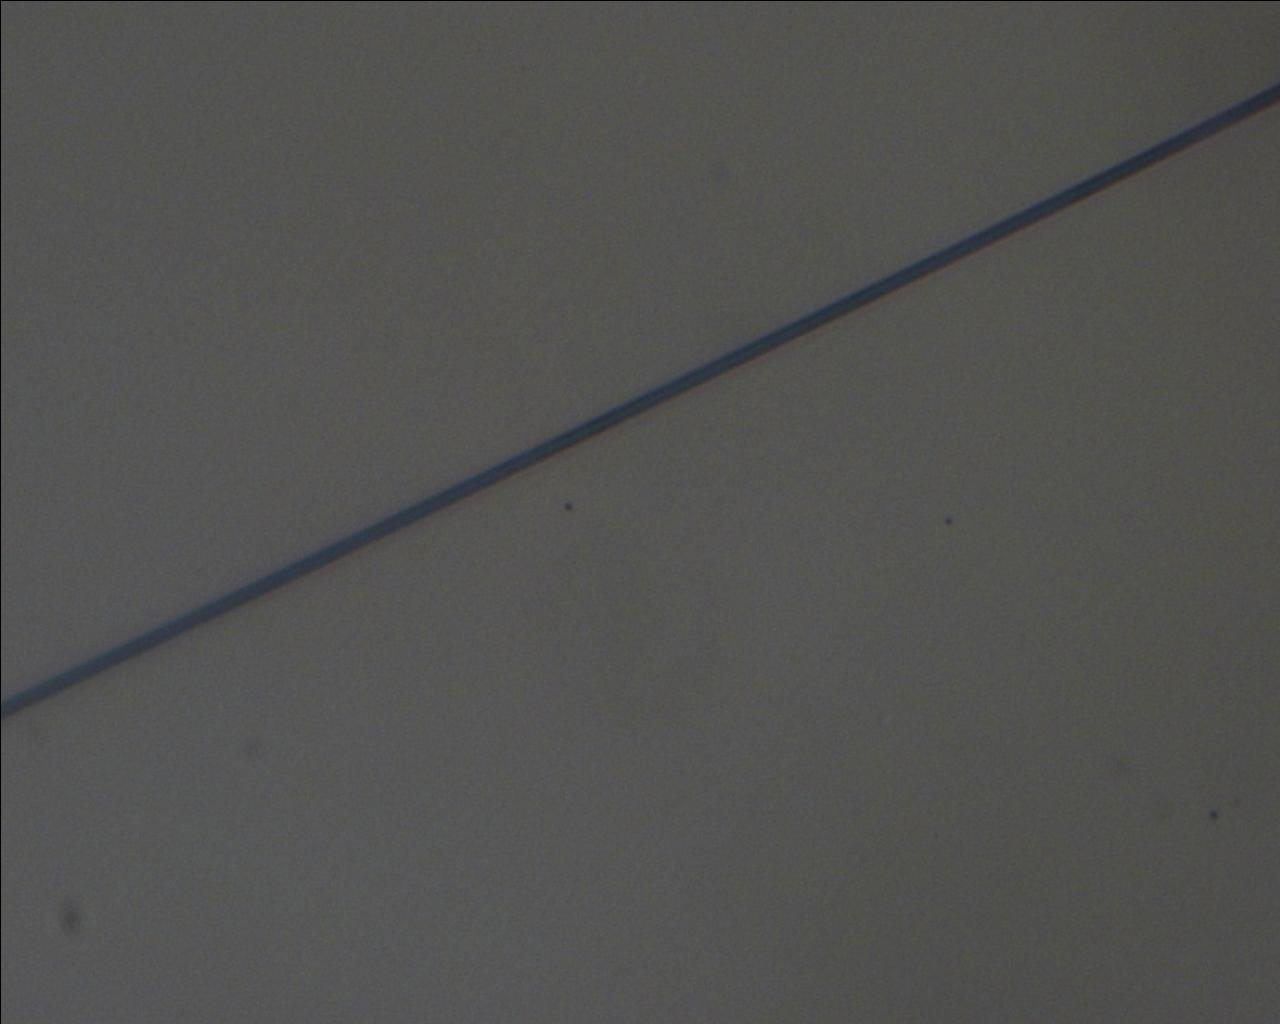fiber: (665, 343, 1280, 603), (270, 675, 665, 1024), (256, 0, 386, 675), (1048, 675, 1280, 893)
